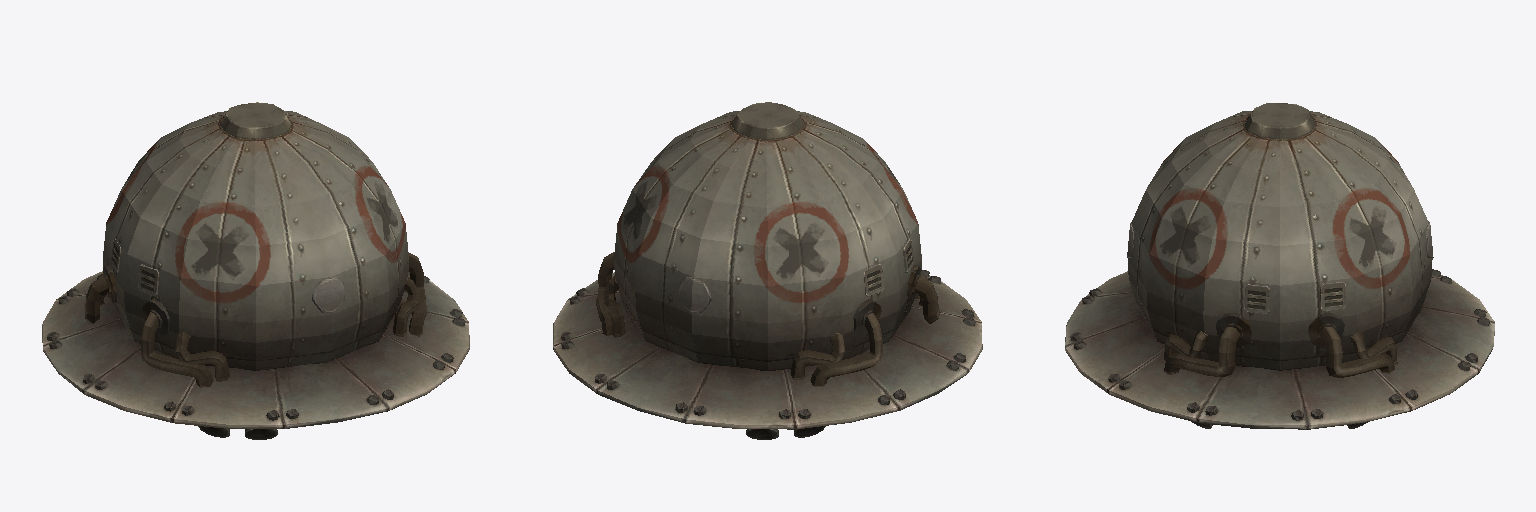
The picture shows the model from 3 angles: view 1: azimuth 30°, elevation 25°; view 2: azimuth 150°, elevation 25°; view 3: azimuth 270°, elevation 25°; orthographic projection.
Parts seen in each view (by area): view 1: Props01a_Near_Mpve_MF03; view 2: Props01a_Near_Mpve_MF03; view 3: Props01a_Near_Mpve_MF03.
Part boxes in pixels (left/top/right/bottom): Props01a_Near_Mpve_MF03: left=42, top=102, right=469, bottom=439; Props01a_Near_Mpve_MF03: left=553, top=102, right=982, bottom=439; Props01a_Near_Mpve_MF03: left=1065, top=103, right=1494, bottom=429.
Size of the model in its own units: 17 by 12.27 by 17.
2 materials, 2 textured.